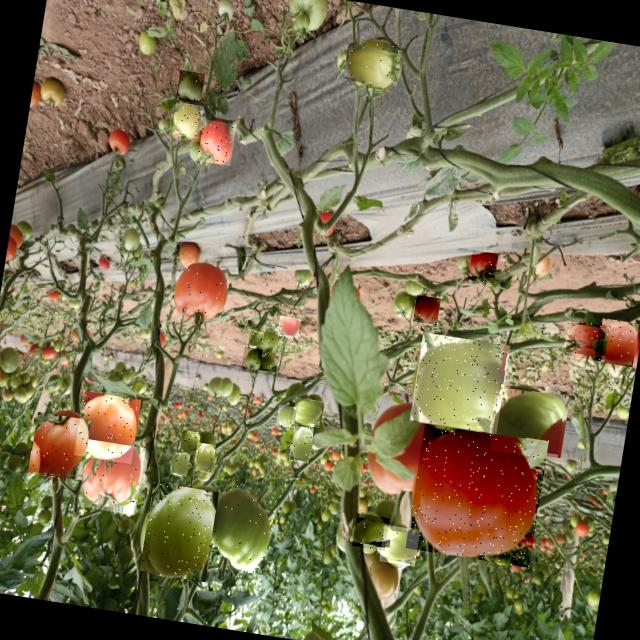Ripe Tomato: (406, 423, 548, 568), (78, 440, 146, 516), (75, 391, 142, 464), (27, 412, 92, 482), (171, 262, 229, 324), (594, 318, 639, 368), (198, 119, 236, 166), (566, 321, 606, 362), (468, 250, 498, 284), (413, 295, 441, 325), (277, 316, 301, 338)
Unripe Tomato: (410, 332, 510, 434), (138, 482, 220, 582), (207, 482, 279, 576), (490, 384, 568, 461), (345, 38, 399, 92), (379, 524, 420, 566), (352, 513, 390, 551), (171, 102, 204, 139), (292, 397, 324, 428), (289, 425, 314, 464), (176, 70, 205, 103), (193, 442, 216, 474), (241, 346, 263, 374), (178, 430, 200, 456), (276, 404, 297, 428), (170, 452, 190, 477), (259, 331, 280, 354), (260, 353, 278, 372), (247, 330, 264, 348)
